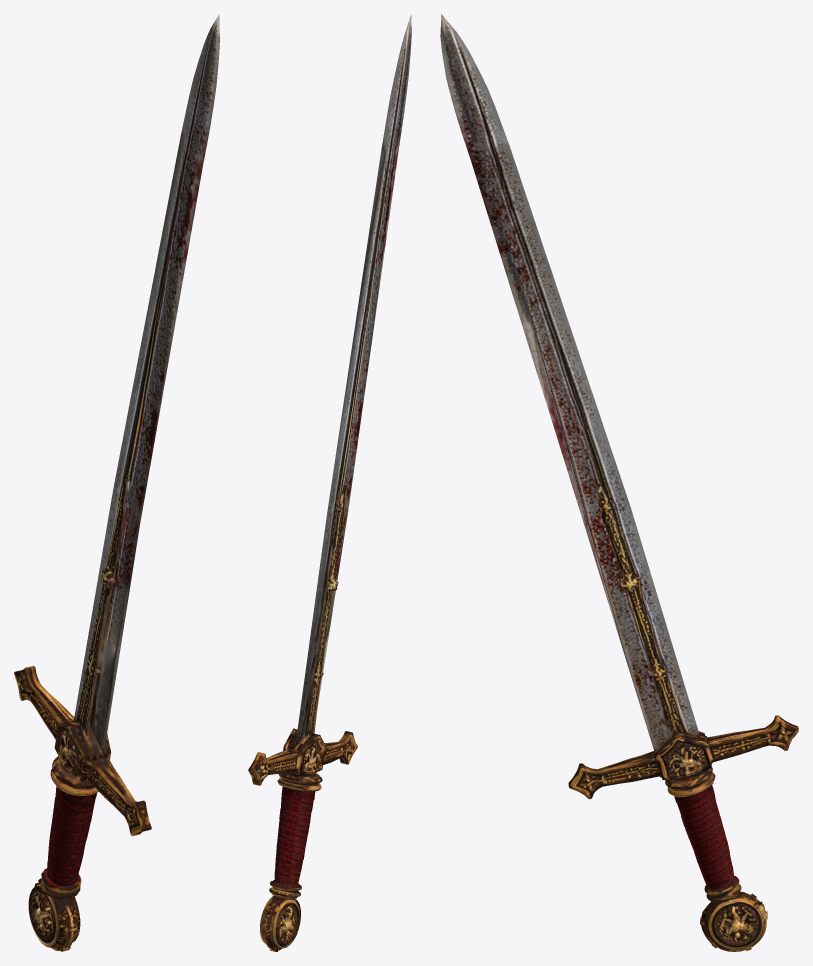
Rendered from Richard_Sword.fbx.
3 renders of one model, left to right at view 1: azimuth 30°, elevation 25°; view 2: azimuth 150°, elevation 25°; view 3: azimuth 270°, elevation 25°, orthographic. The views are drawn at different scales.
Parts seen in each view (by area): view 1: Richard_Sword; view 2: Richard_Sword; view 3: Richard_Sword.
Boxes of the visible parts, x1,y1,x2,y2 form: Richard_Sword: [14, 14, 219, 951]; Richard_Sword: [248, 14, 411, 951]; Richard_Sword: [440, 14, 798, 951].
Bounding box in the file's own units: 5.32 × 110 × 38.1.
